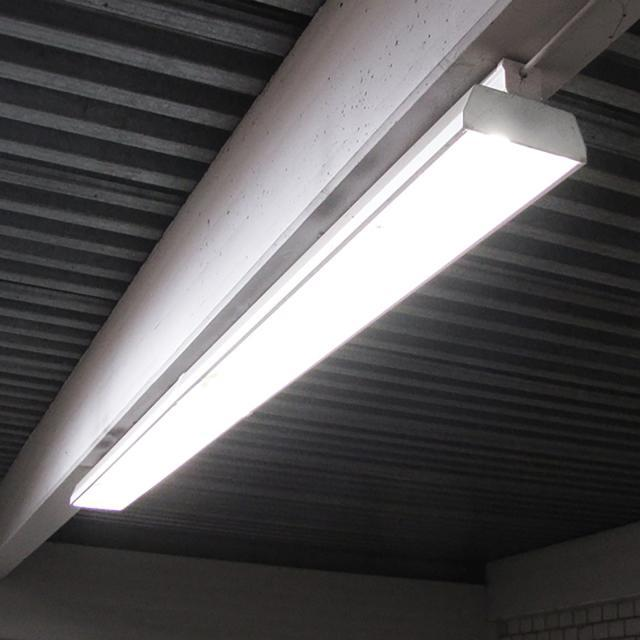Straight-Tube-Fluorescent-Lamp: (67, 79, 591, 551)
